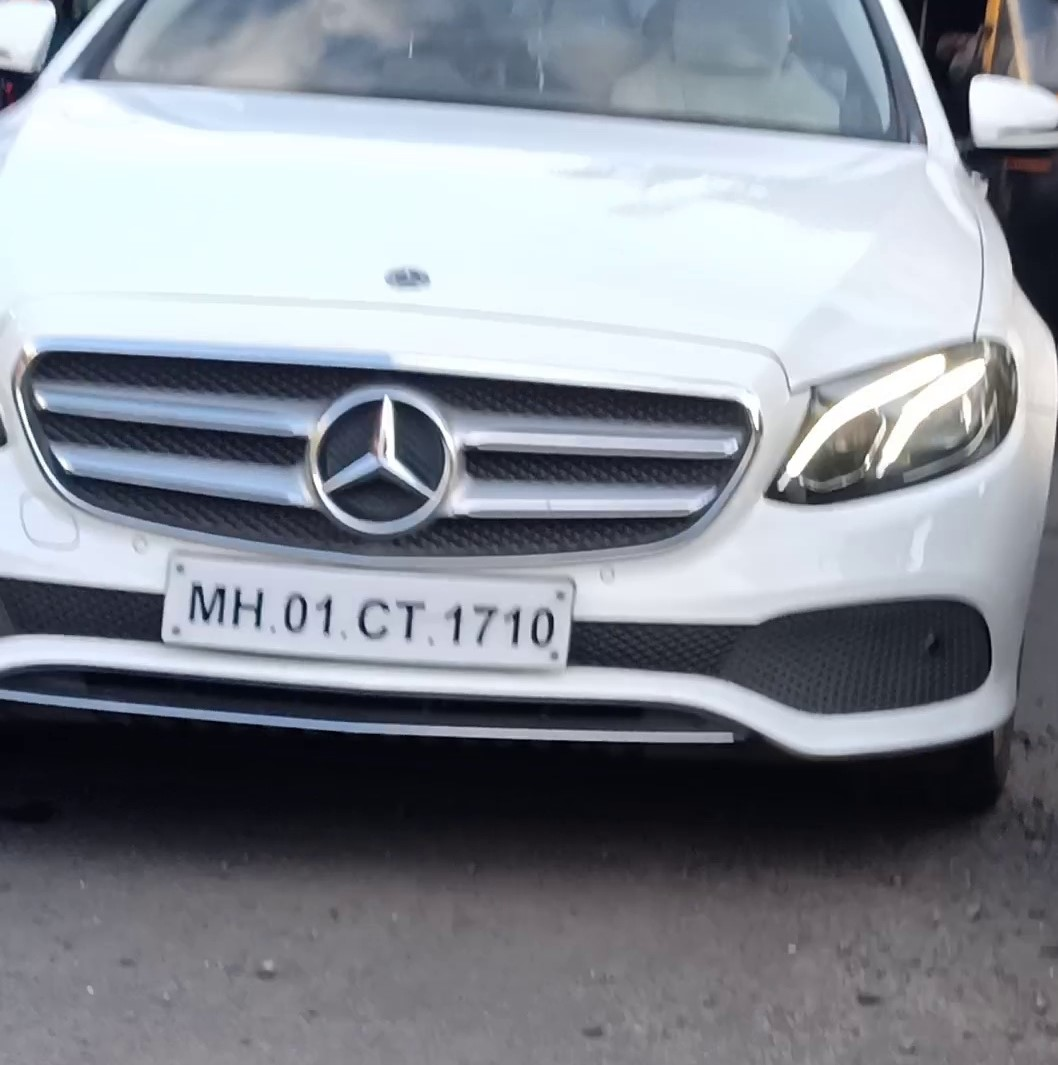MH01CT1710: (161, 545, 575, 671)
